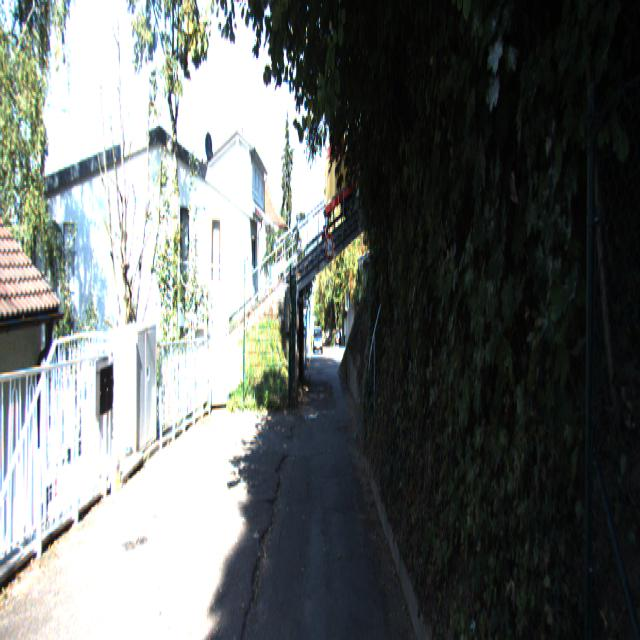Car: (313, 323, 323, 352)
